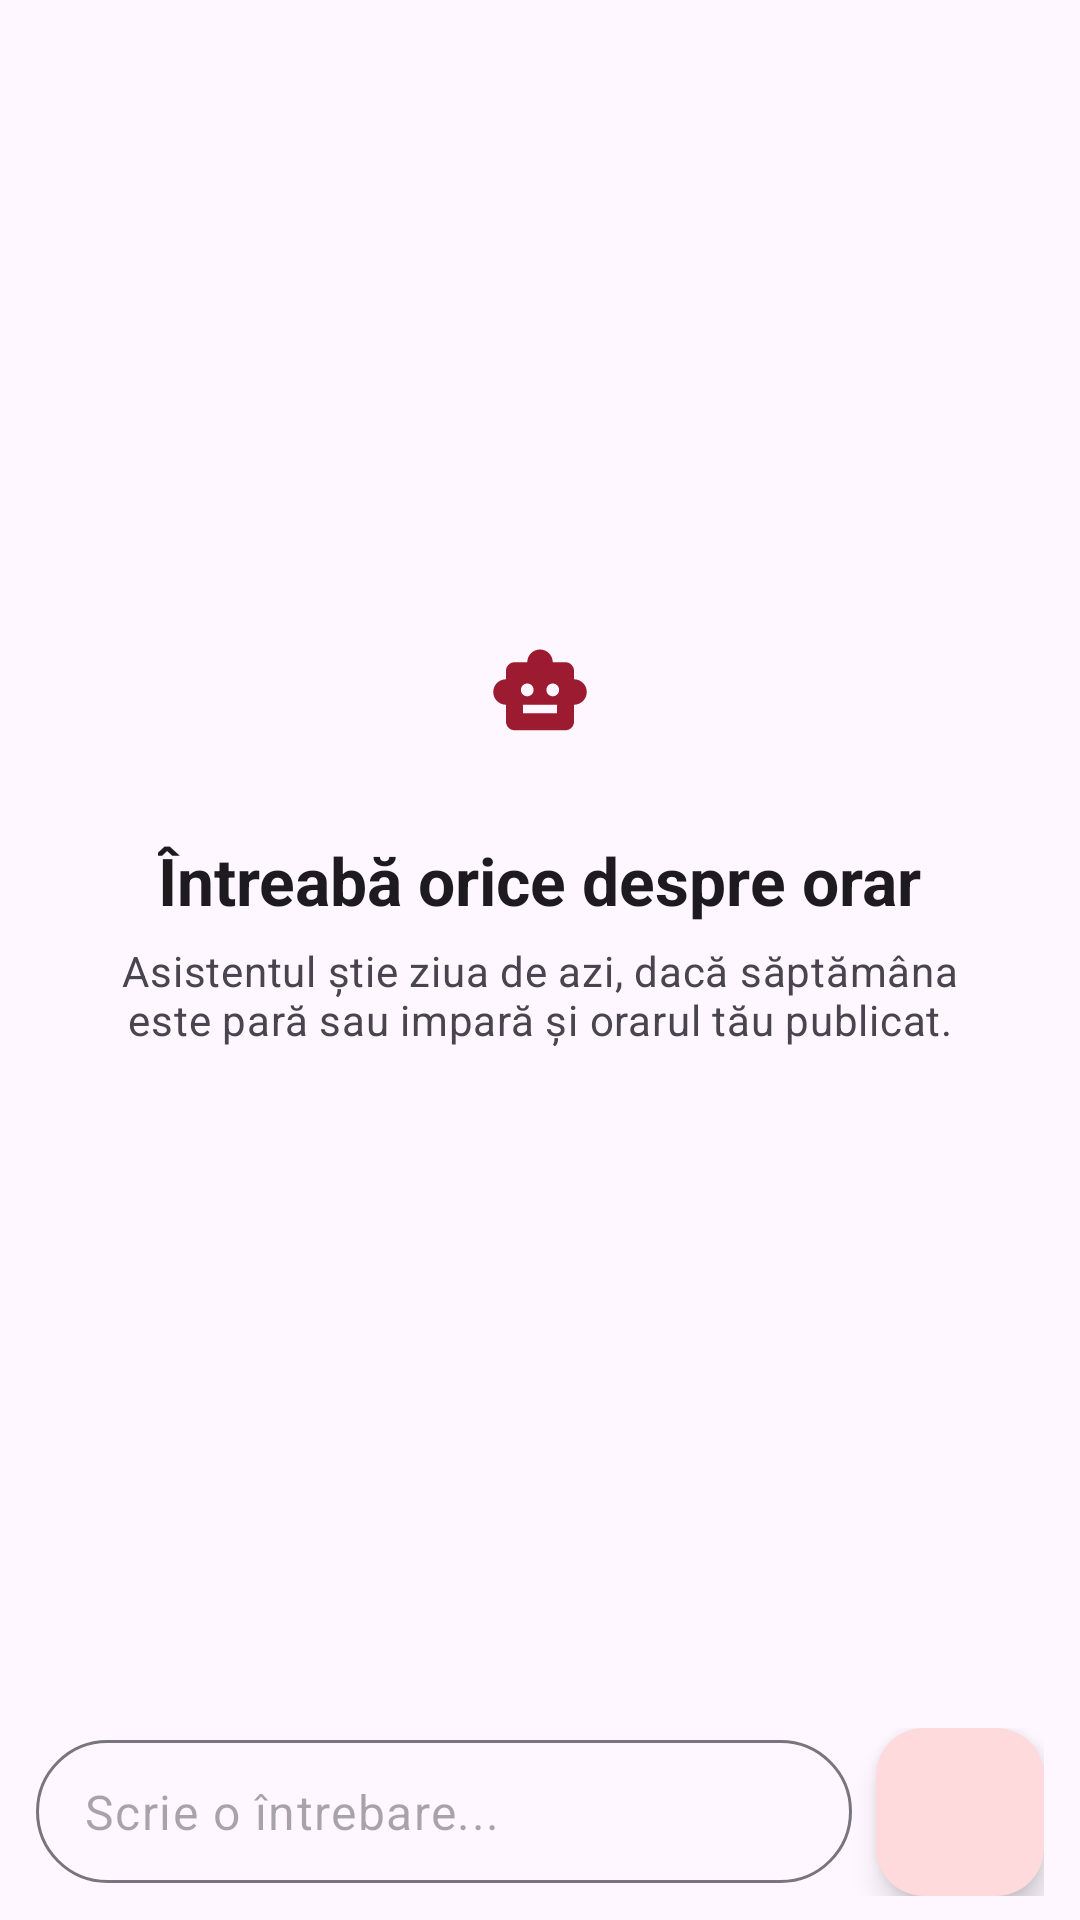

Where to tap for icons on this 1080x1920 app screen, as point (x, y):
robot: point (540, 690)
